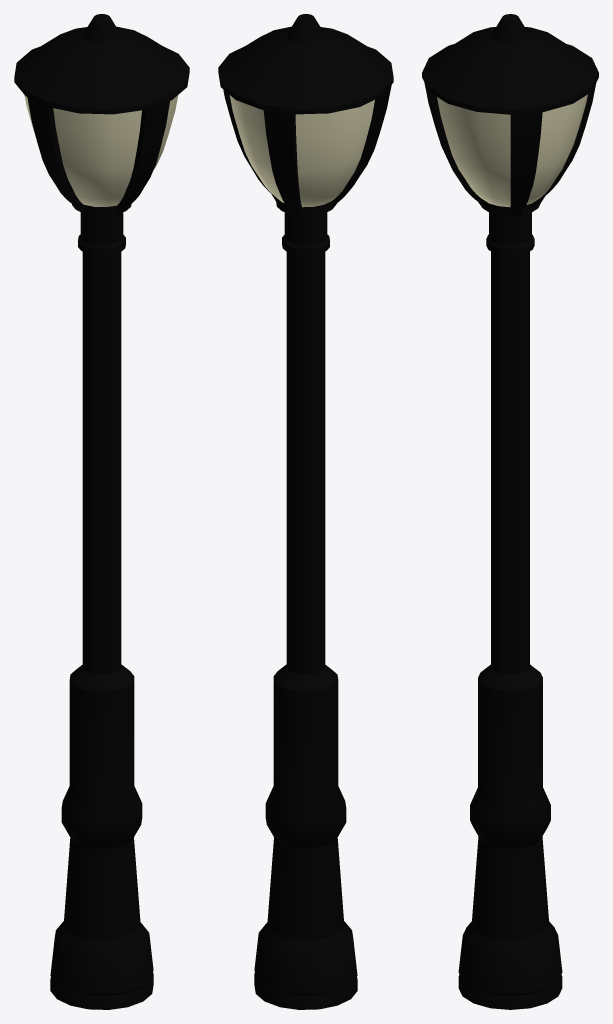
File: StreetLight1.fbx
3 renders of one model, left to right at view 1: azimuth 30°, elevation 25°; view 2: azimuth 150°, elevation 25°; view 3: azimuth 270°, elevation 25°, orthographic.
Parts seen in each view (by area): view 1: StreetLight1, StreetLight1_Bulb; view 2: StreetLight1, StreetLight1_Bulb; view 3: StreetLight1, StreetLight1_Bulb.
Part boxes in pixels (x1,y1,x2,y2): StreetLight1: (14,14,189,1009); StreetLight1_Bulb: (24,95,178,206); StreetLight1: (218,14,393,1009); StreetLight1_Bulb: (229,95,374,207); StreetLight1: (422,14,598,1009); StreetLight1_Bulb: (437,94,587,207).
Bounding box in the file's own units: 75.61 × 458 × 75.61.
